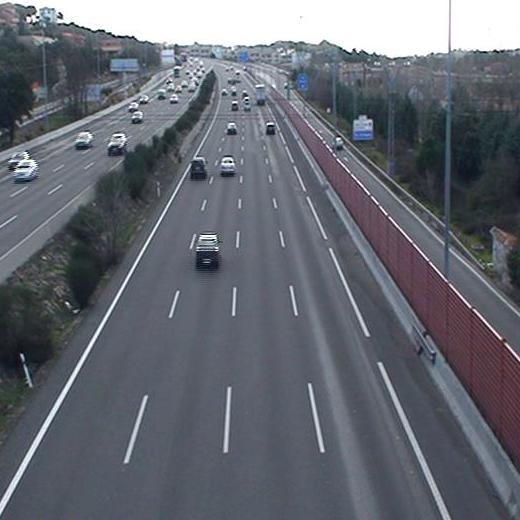car: (194, 231, 221, 266), (188, 154, 210, 179), (218, 156, 239, 174), (263, 120, 278, 138), (225, 121, 239, 137)
truck: (255, 83, 268, 108)
